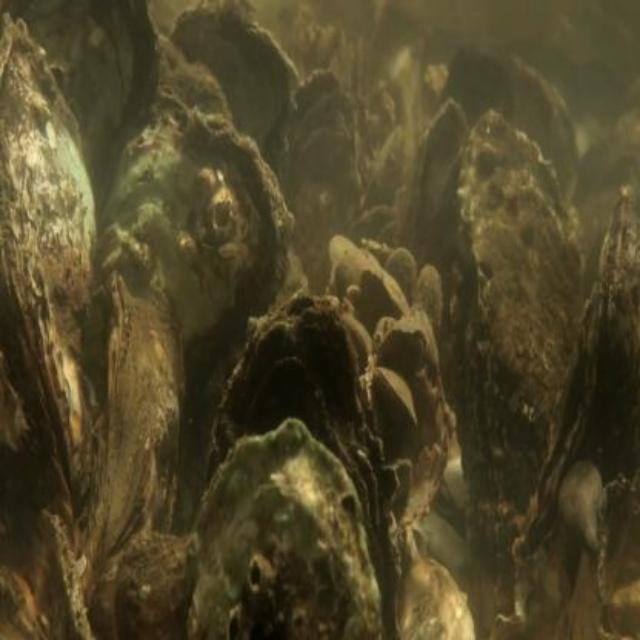Oyster-Closed: (205, 293, 399, 638), (0, 12, 106, 513), (100, 109, 290, 377), (188, 421, 386, 638), (6, 0, 158, 190), (279, 71, 362, 294), (401, 99, 473, 279), (118, 529, 197, 638), (360, 269, 412, 341), (379, 319, 431, 388), (373, 366, 418, 431)
Oyster-Open: (511, 180, 638, 614), (455, 110, 583, 540)
